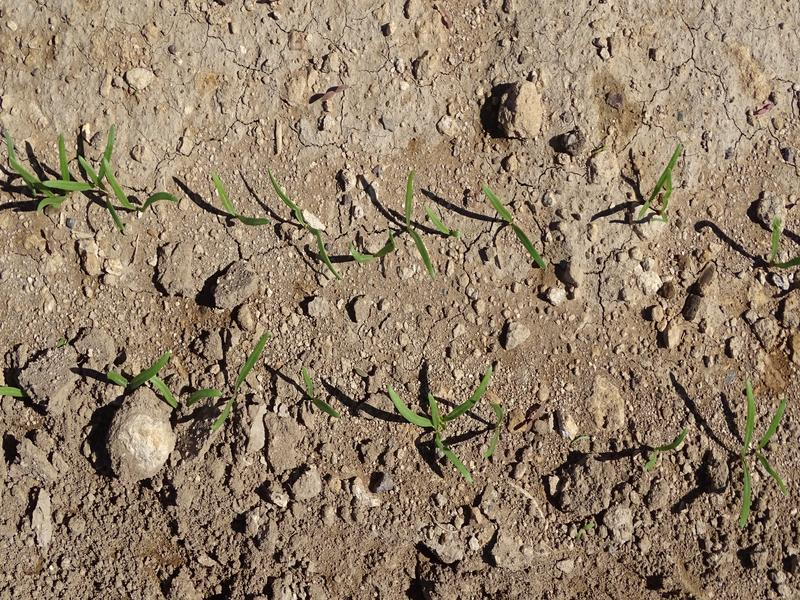Espinaca: (387, 363, 497, 484), (7, 123, 129, 208), (186, 334, 272, 433), (737, 380, 784, 535), (108, 347, 220, 410), (269, 175, 337, 275), (481, 180, 547, 270), (400, 170, 438, 278), (636, 146, 687, 225), (205, 170, 267, 231)
